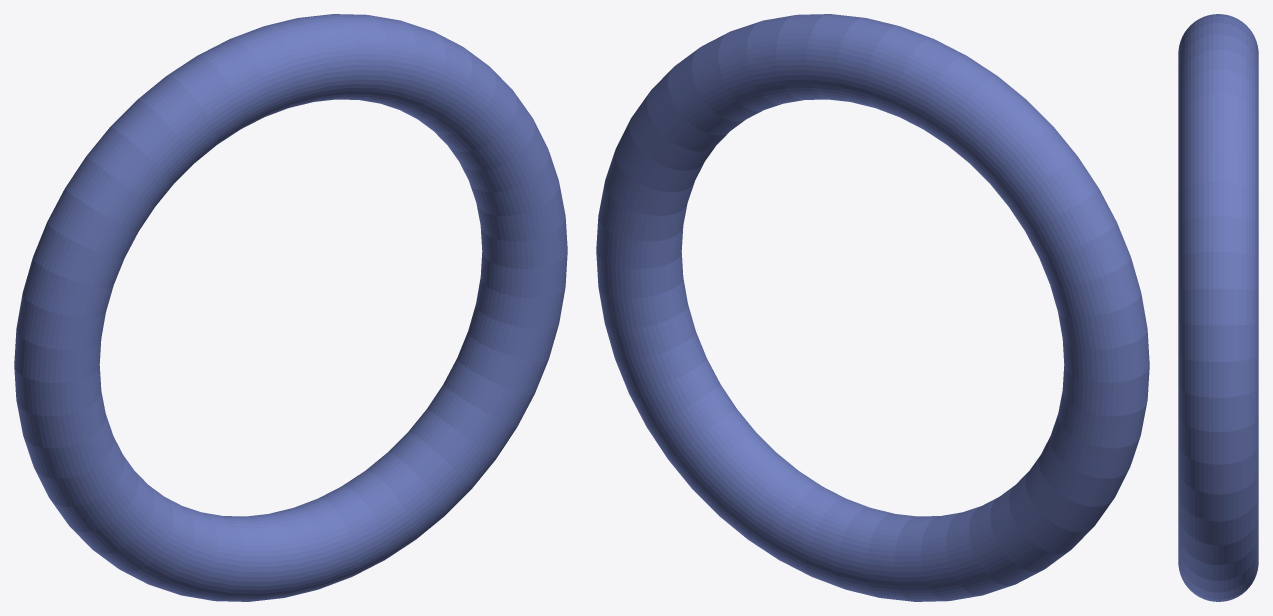
The picture shows the model from 3 angles, left to right: view 1: azimuth 30°, elevation 25°; view 2: azimuth 150°, elevation 25°; view 3: azimuth 270°, elevation 25°; orthographic projection. The views are drawn at different scales.
Parts seen in each view (by area): view 1: world; view 2: world; view 3: world.
Part boxes in pixels (x1,y1,x2,y2): world: (14,14,567,601); world: (596,14,1149,601); world: (1178,14,1258,601).
Bounding box in the file's own units: 18.53 × 18.5 × 2.53.
